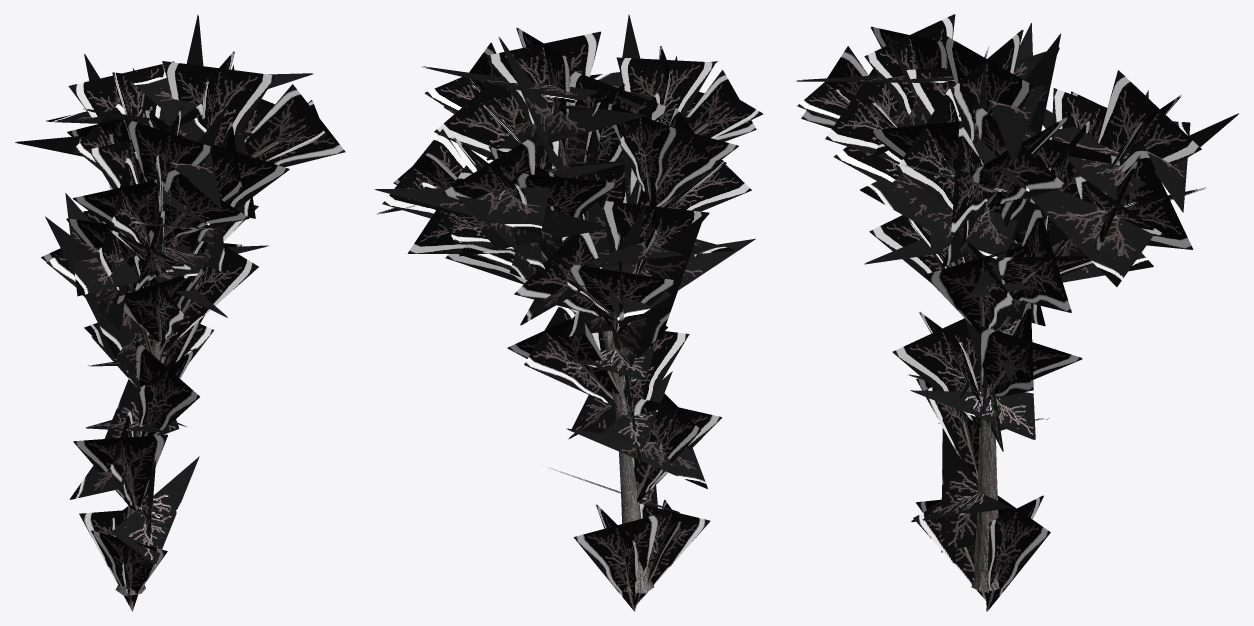
The model's file is flora_tree_elm_dead.glb.
3 renders of one model, left to right at view 1: azimuth 30°, elevation 25°; view 2: azimuth 150°, elevation 25°; view 3: azimuth 270°, elevation 25°, orthographic. The views are drawn at different scales.
Visible parts, largest first — view 1: flora_tree_elm_dead_part0; view 2: flora_tree_elm_dead_part0; view 3: flora_tree_elm_dead_part0.
Boxes of the visible parts, box(x1,y1,x2,y2) form: flora_tree_elm_dead_part0: box(15, 14, 345, 611); flora_tree_elm_dead_part0: box(375, 14, 763, 611); flora_tree_elm_dead_part0: box(796, 14, 1238, 611).
Bounding box in the file's own units: 16.93 × 32.37 × 20.72.
Materials: 1 (1 with a texture image).
